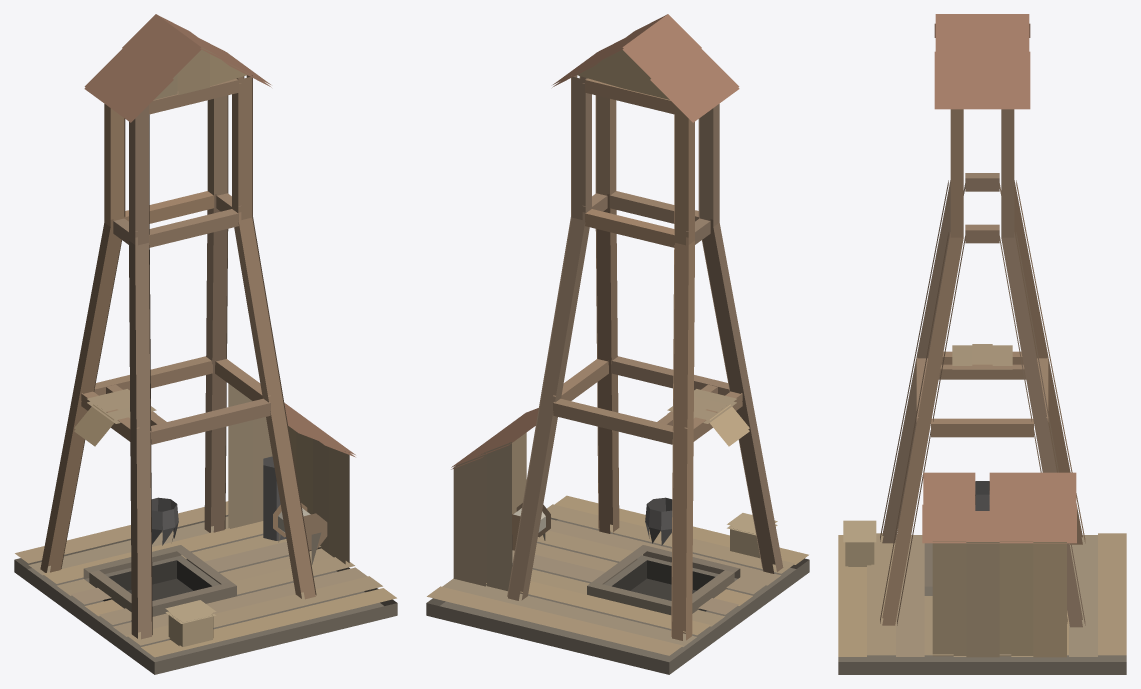
Rendered from tent_1.lod.glb.
3 renders of one model, left to right at view 1: azimuth 30°, elevation 25°; view 2: azimuth 150°, elevation 25°; view 3: azimuth 270°, elevation 25°, orthographic. The views are drawn at different scales.
Visible parts, largest first — view 1: tent_1; view 2: tent_1; view 3: tent_1.
Boxes of the visible parts, x1,y1,x2,y2 form: tent_1: [14, 14, 397, 674]; tent_1: [426, 14, 809, 674]; tent_1: [838, 14, 1126, 674].
Size of the model in its own units: 4.4 by 9.87 by 4.4.
